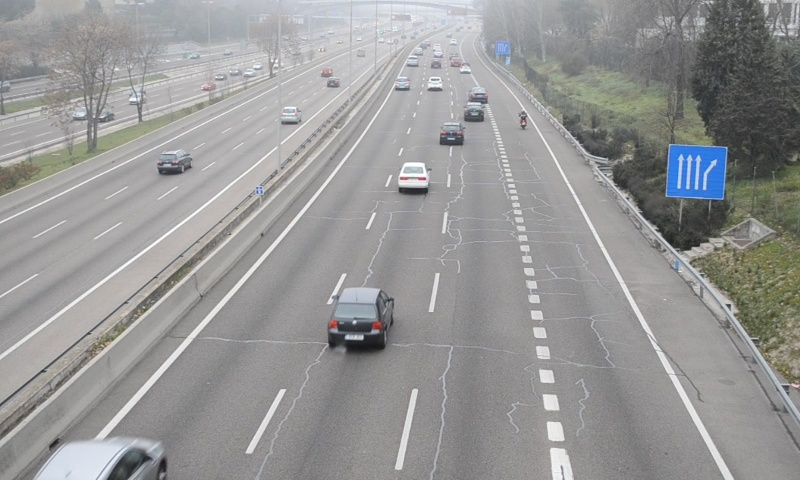car: (328, 287, 393, 344), (398, 162, 431, 191), (439, 122, 464, 146), (463, 102, 485, 122), (468, 86, 489, 102), (426, 76, 444, 91), (394, 76, 411, 90)
motorcycle: (518, 109, 529, 131)
